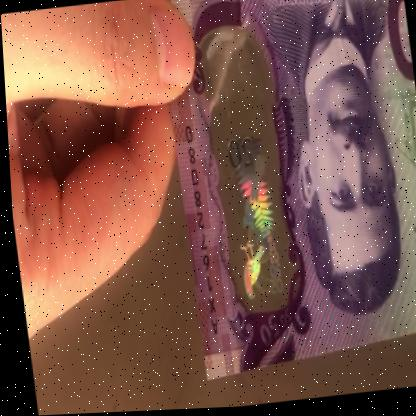50F: (205, 60, 286, 310)
